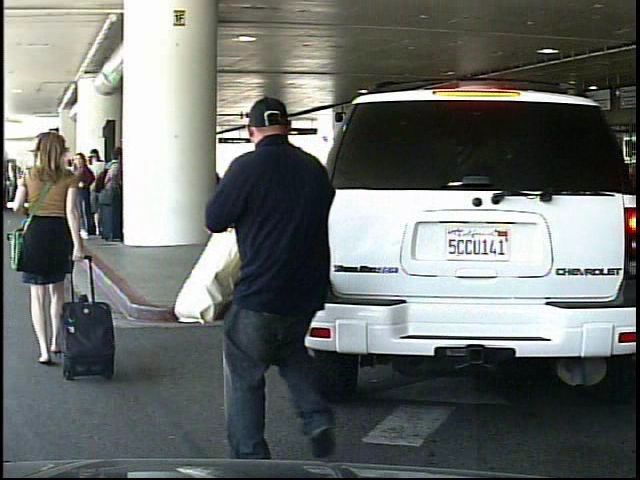person: (202, 92, 363, 467), (5, 126, 96, 390)
